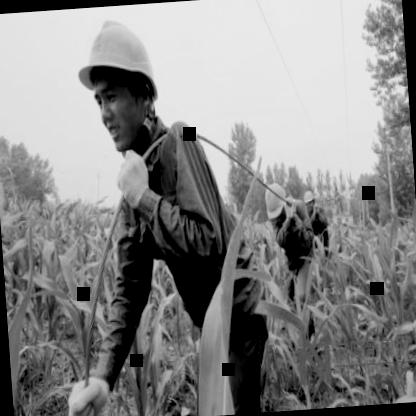helmet: (64, 3, 172, 165), (265, 180, 291, 225), (302, 188, 318, 215)
